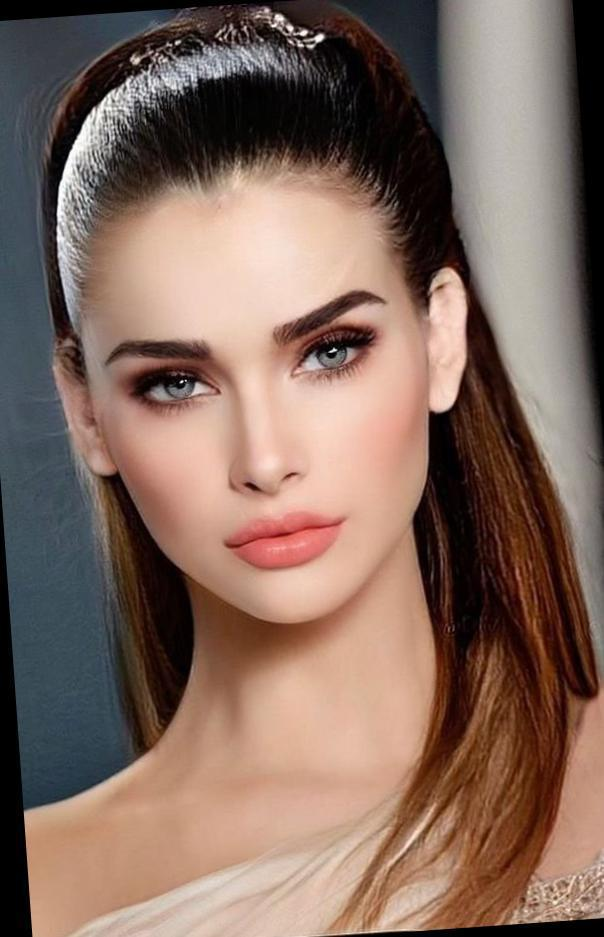Sober: (91, 226, 415, 586)
